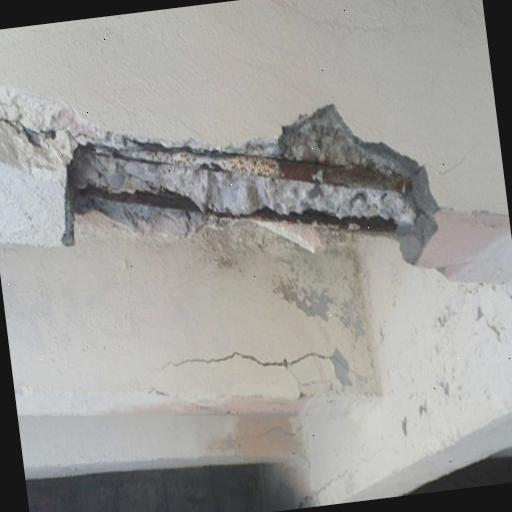spalling: (0, 89, 438, 269), (157, 344, 376, 389)
